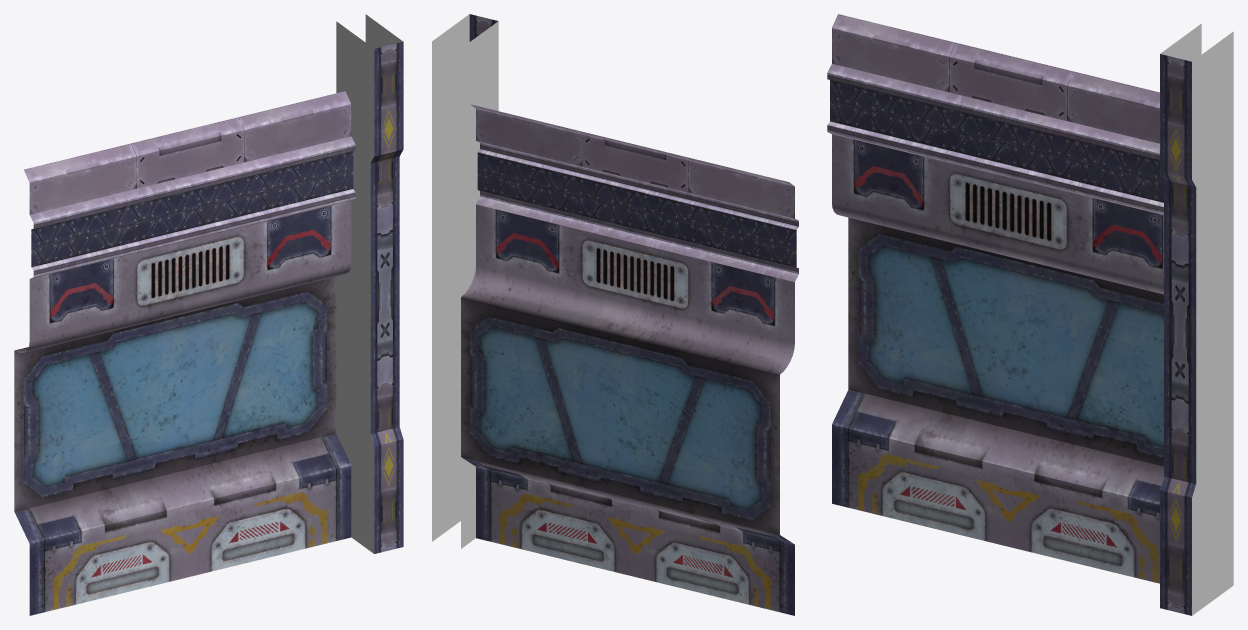
The model's file is SM_GlassPanel01.fbx.
3 renders of one model, left to right at view 1: azimuth 30°, elevation 25°; view 2: azimuth 150°, elevation 25°; view 3: azimuth 330°, elevation 25°, orthographic. The views are drawn at different scales.
Visible parts, largest first — view 1: SM_GlassPanel01; view 2: SM_GlassPanel01; view 3: SM_GlassPanel01.
Part boxes in pixels (x1,y1,x2,y2): SM_GlassPanel01: (14,14,403,615); SM_GlassPanel01: (432,14,798,615); SM_GlassPanel01: (827,14,1233,615).
Size of the model in its own units: 600 by 825 by 112.
